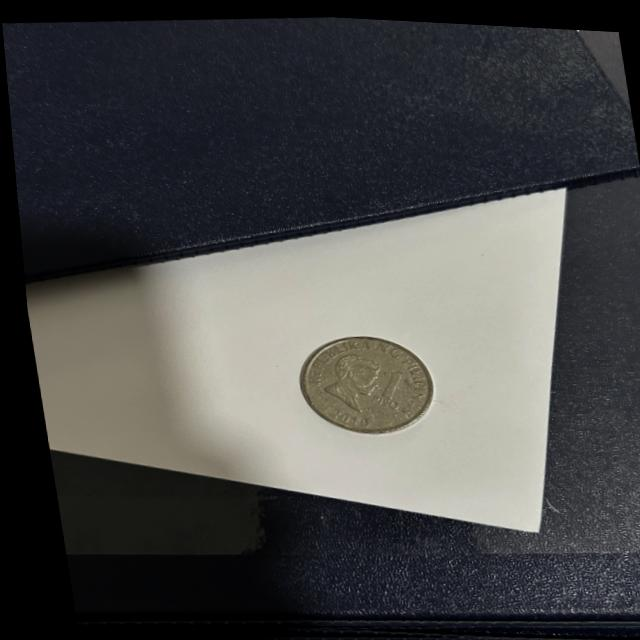1_Old_Front: (354, 358, 406, 408)
